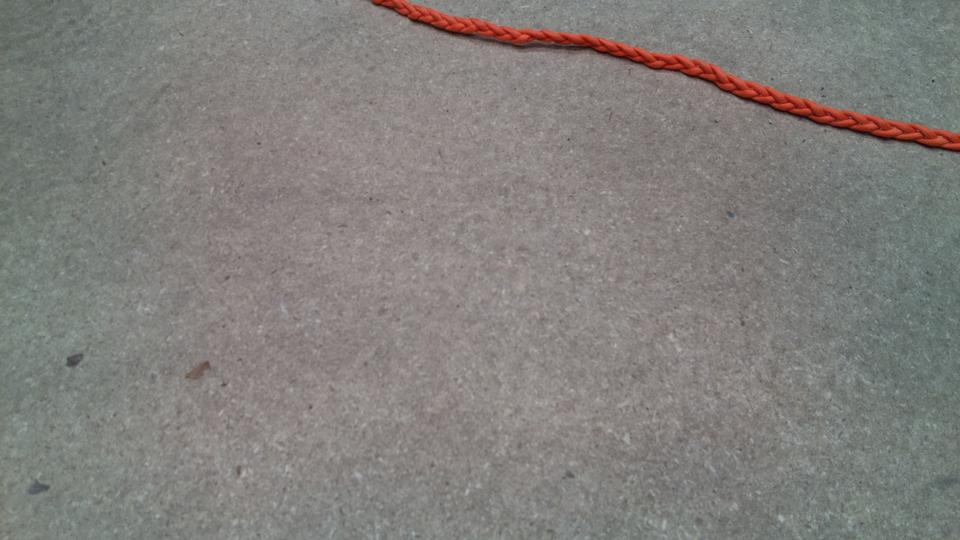rope: (397, 1, 960, 143)
